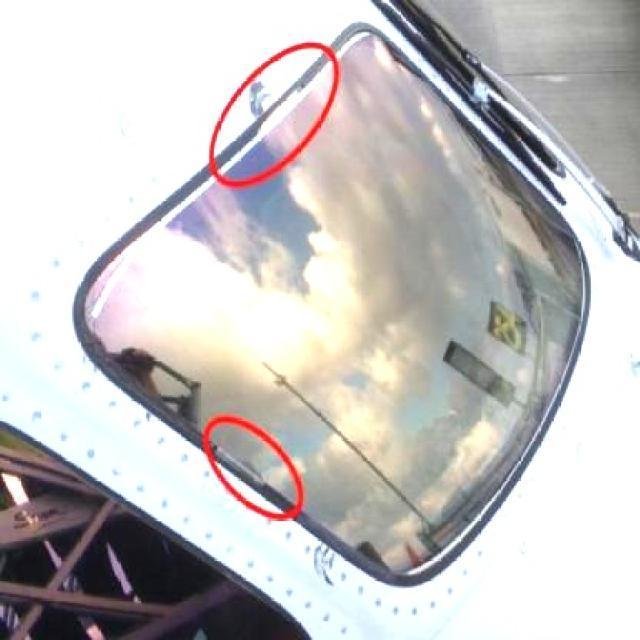crack: (313, 543, 336, 586)
